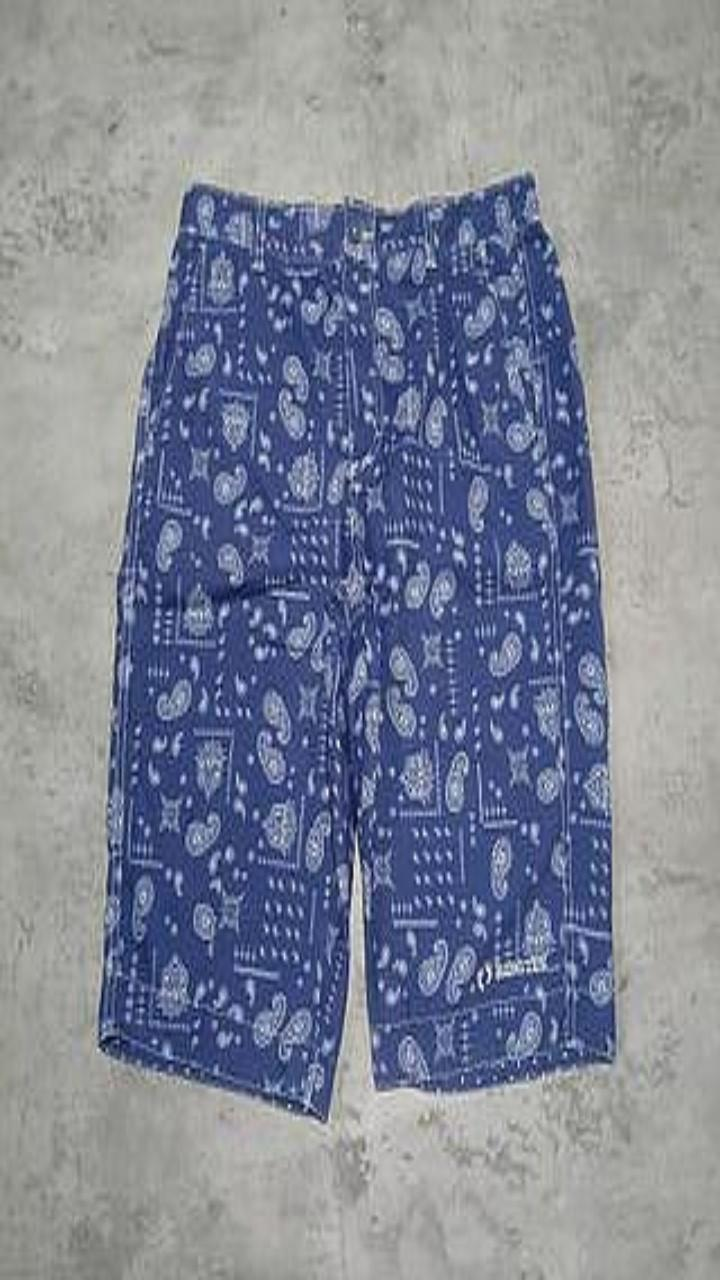Shorts: (99, 174, 615, 1120)
